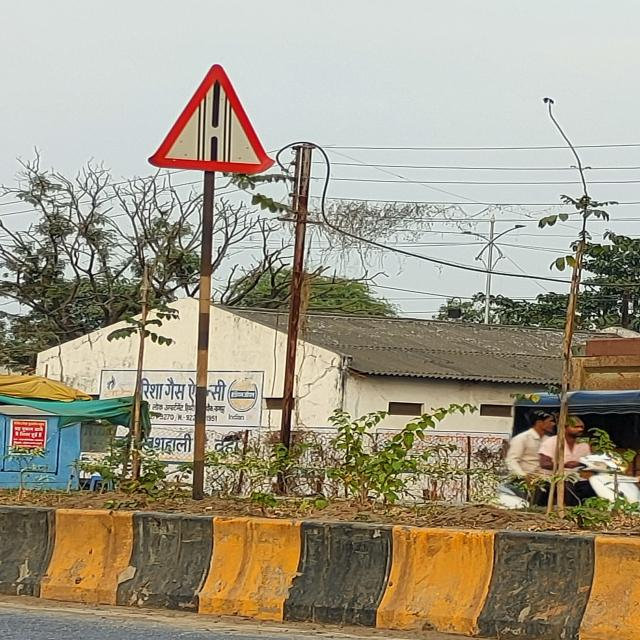ferry: (147, 64, 277, 175)
